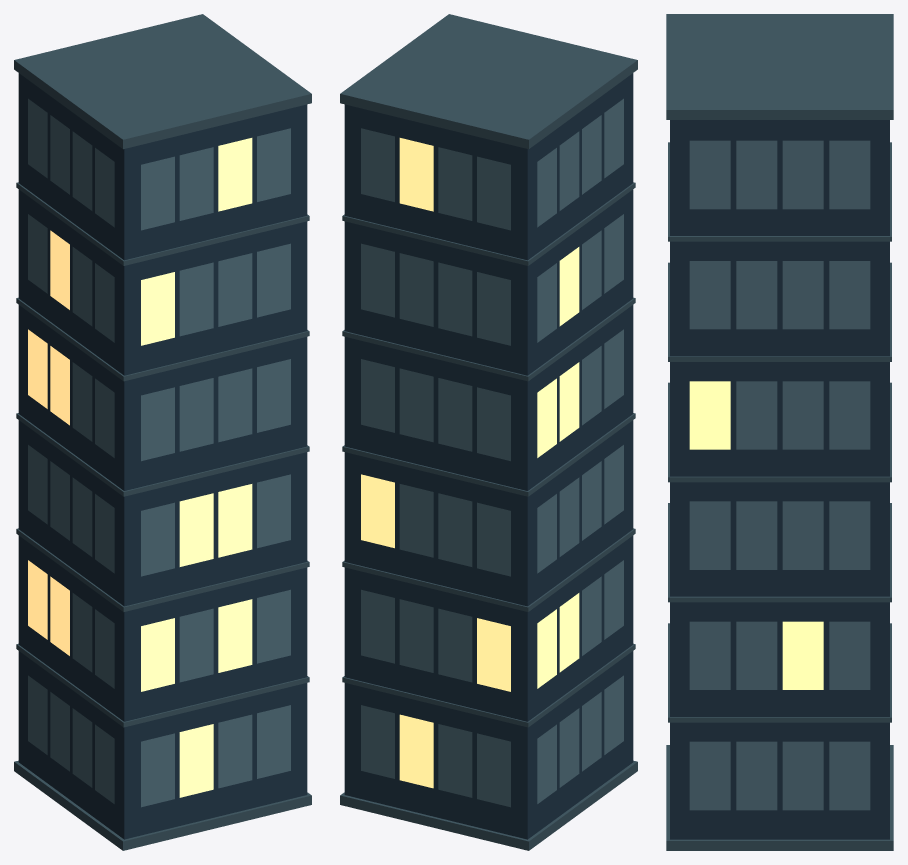
File: city-building-02.glb
The picture shows the model from 3 angles, left to right: view 1: azimuth 30°, elevation 25°; view 2: azimuth 150°, elevation 25°; view 3: azimuth 270°, elevation 25°; orthographic projection. The views are drawn at different scales.
Visible parts, largest first — view 1: city_building_02; view 2: city_building_02; view 3: city_building_02.
Boxes of the visible parts, x1,y1,x2,y2 form: city_building_02: (14,14,311,850); city_building_02: (340,14,637,850); city_building_02: (666,14,893,850).
Bounding box in the file's own units: 5 × 18 × 5.
